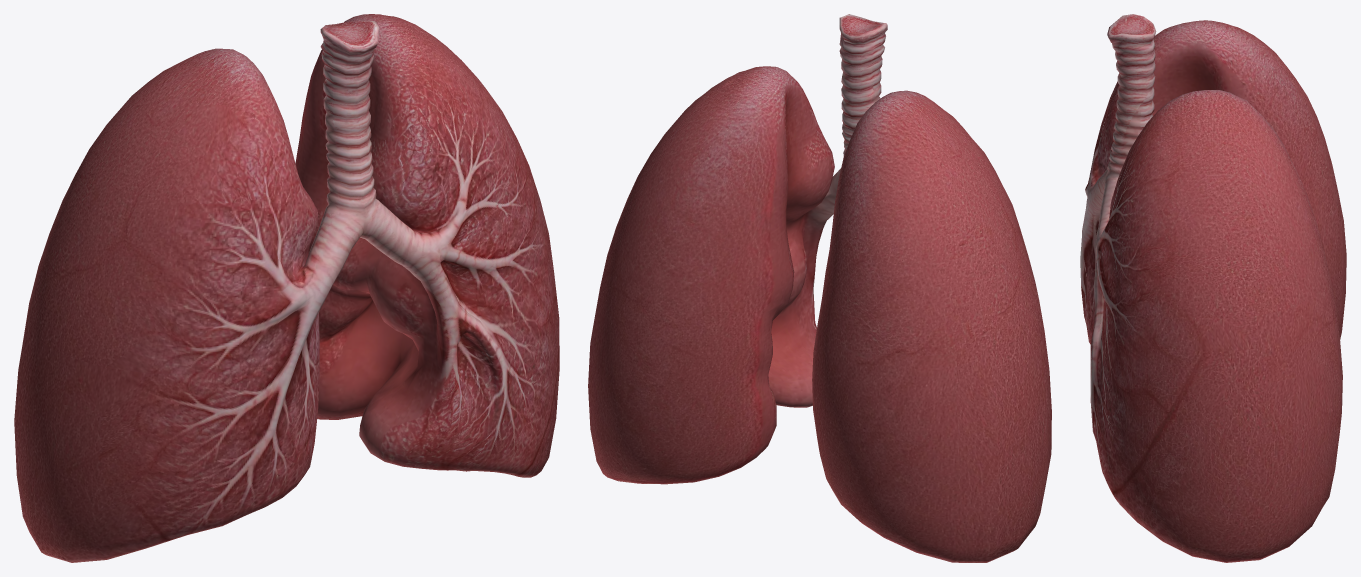
File: lungs-realistic.glb
3 views of the same model, side by side, from view 1: azimuth 30°, elevation 25°; view 2: azimuth 150°, elevation 25°; view 3: azimuth 270°, elevation 25° (orthographic). The views are drawn at different scales.
Visible parts, largest first — view 1: tripo_node_ffa59740-06be-4326-8f2d-275a5e84dddf; view 2: tripo_node_ffa59740-06be-4326-8f2d-275a5e84dddf; view 3: tripo_node_ffa59740-06be-4326-8f2d-275a5e84dddf.
Boxes of the visible parts, x1,y1,x2,y2 form: tripo_node_ffa59740-06be-4326-8f2d-275a5e84dddf: [14, 14, 559, 562]; tripo_node_ffa59740-06be-4326-8f2d-275a5e84dddf: [588, 14, 1051, 562]; tripo_node_ffa59740-06be-4326-8f2d-275a5e84dddf: [1080, 14, 1346, 562].
Size of the model in its own units: 0.998 by 0.998 by 0.541.
1 material, 1 textured.
